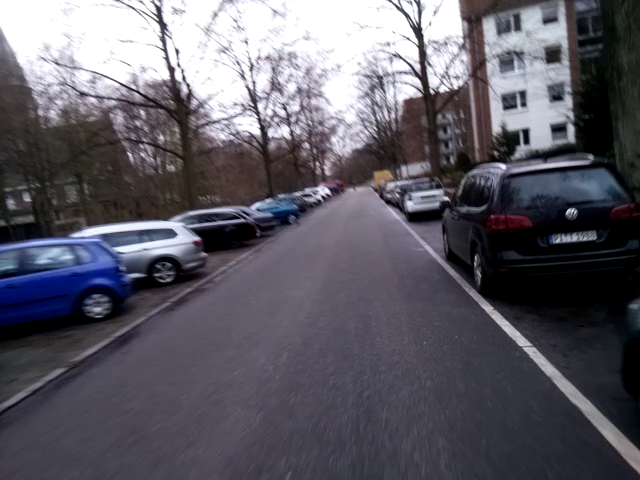car: (437, 135, 628, 315)
